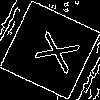X: (24, 25, 81, 75)
